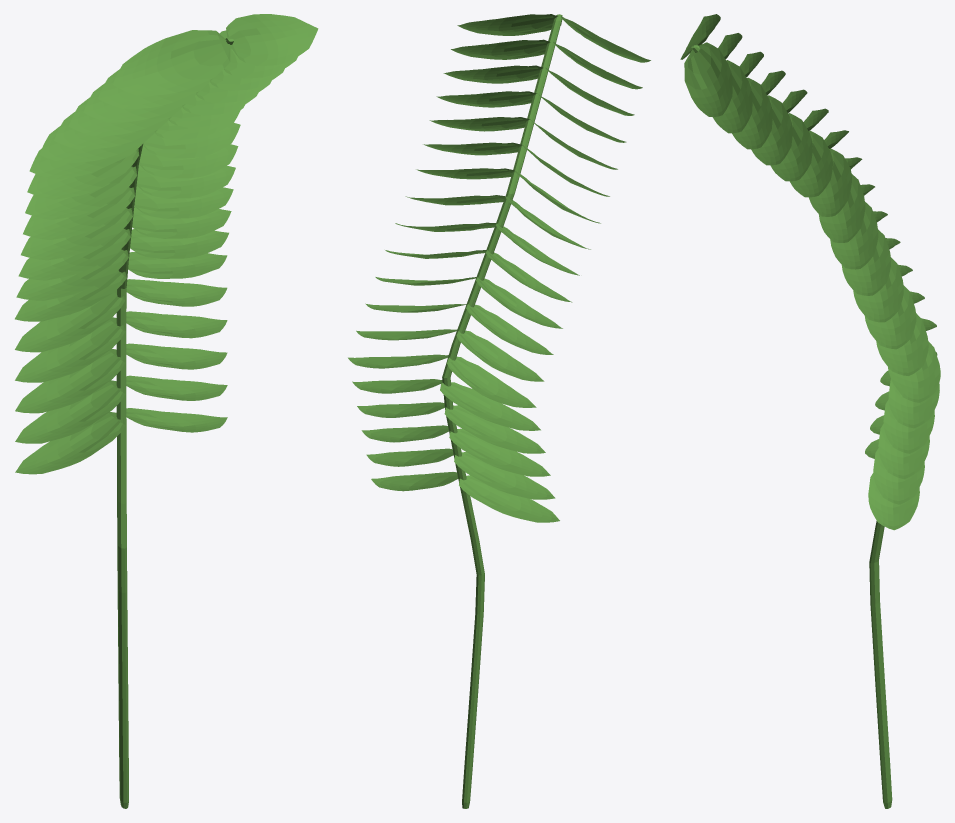
File: sword_fern_variant3.fbx
The picture shows the model from 3 angles, left to right: view 1: azimuth 30°, elevation 25°; view 2: azimuth 150°, elevation 25°; view 3: azimuth 270°, elevation 25°; orthographic projection. The views are drawn at different scales.
Visible parts, largest first — view 1: Plane.003, Plane.004, Curve; view 2: Plane.003, Plane.004, Curve; view 3: Plane.004, Plane.003, Curve.
Part boxes in pixels (x1,y1,x2,y2): Plane.003: (15, 30, 230, 474); Plane.004: (126, 14, 318, 432); Curve: (116, 37, 233, 808); Plane.003: (440, 16, 650, 522); Plane.004: (348, 14, 562, 491); Curve: (442, 14, 562, 808); Plane.004: (684, 42, 940, 530); Plane.003: (680, 14, 937, 458); Curve: (691, 44, 892, 808).
Size of the model in its own units: 22.31 by 73.69 by 22.65.
